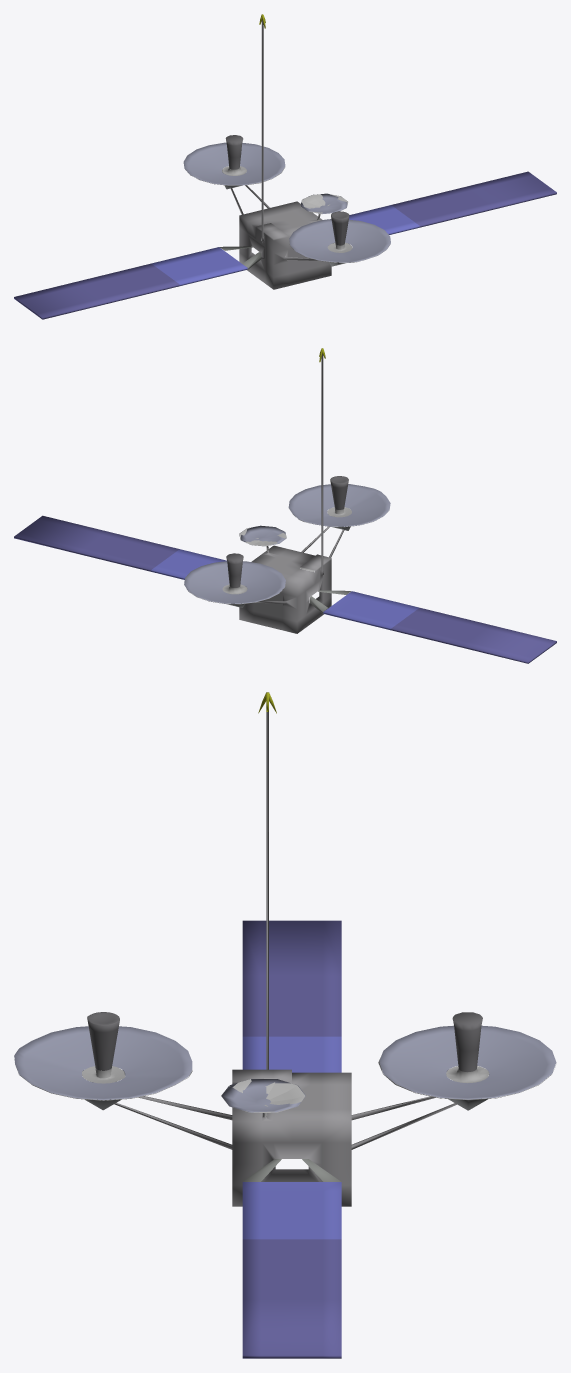
The model's file is tracking-and-data-relay-satellites-tdrs-a.glb.
3 renders of one model, top to bottom at view 1: azimuth 30°, elevation 25°; view 2: azimuth 150°, elevation 25°; view 3: azimuth 270°, elevation 25°, orthographic. The views are drawn at different scales.
Parts seen in each view (by area): view 1: polySurface5, transform8; view 2: polySurface5, transform8; view 3: polySurface5, transform8.
Boxes of the visible parts, box(x1,y1,x2,y2) form: polySurface5: box(14, 14, 556, 319); transform8: box(185, 156, 390, 269); polySurface5: box(14, 348, 556, 663); transform8: box(188, 507, 389, 613); polySurface5: box(14, 692, 556, 1358); transform8: box(15, 1057, 556, 1181).
Size of the model in its own units: 0.8866 by 0.4489 by 0.468.
3 materials, 3 textured.
